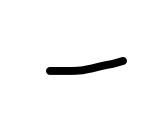minus: (47, 57, 128, 76)
